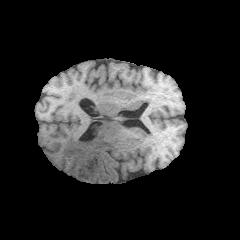glioma: (62, 136, 121, 181)
